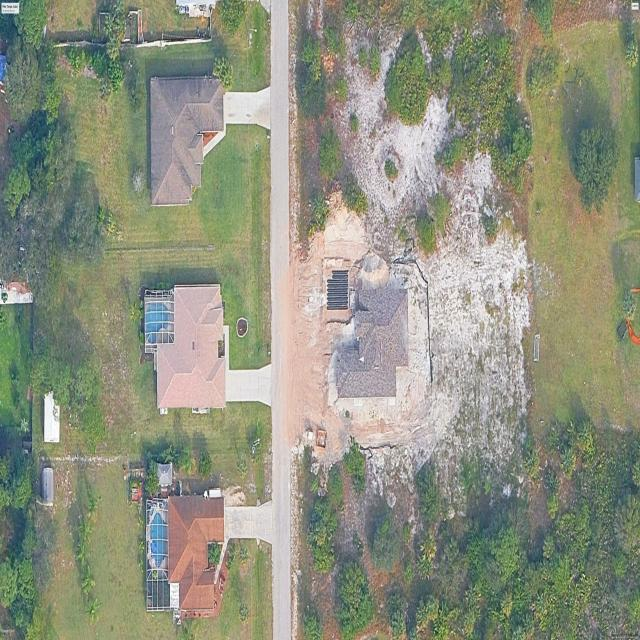Home: (149, 76, 225, 206), (155, 285, 226, 409), (336, 288, 408, 398), (168, 496, 225, 617)
